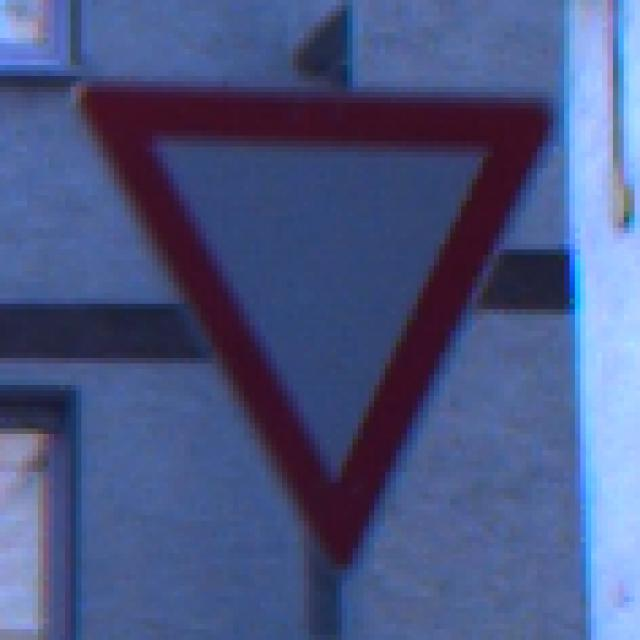Give Way: (61, 61, 587, 587)
